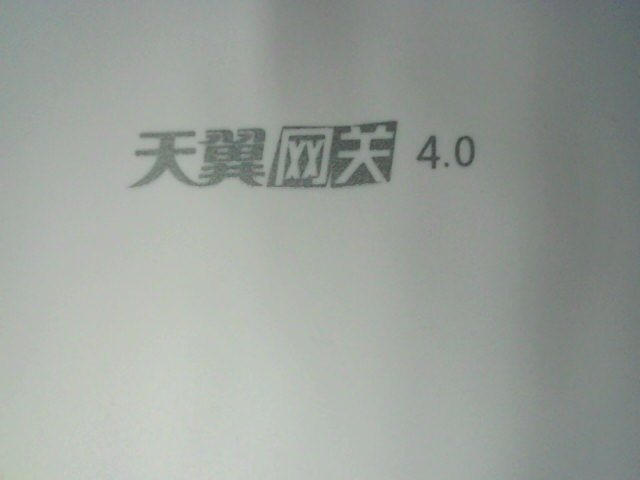BM_TianYiWangGuan: (121, 115, 483, 194)
